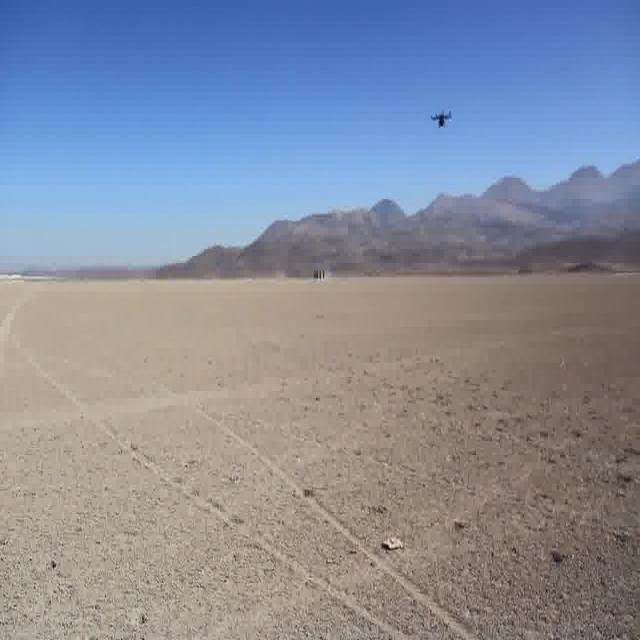drones: (424, 101, 458, 138)
